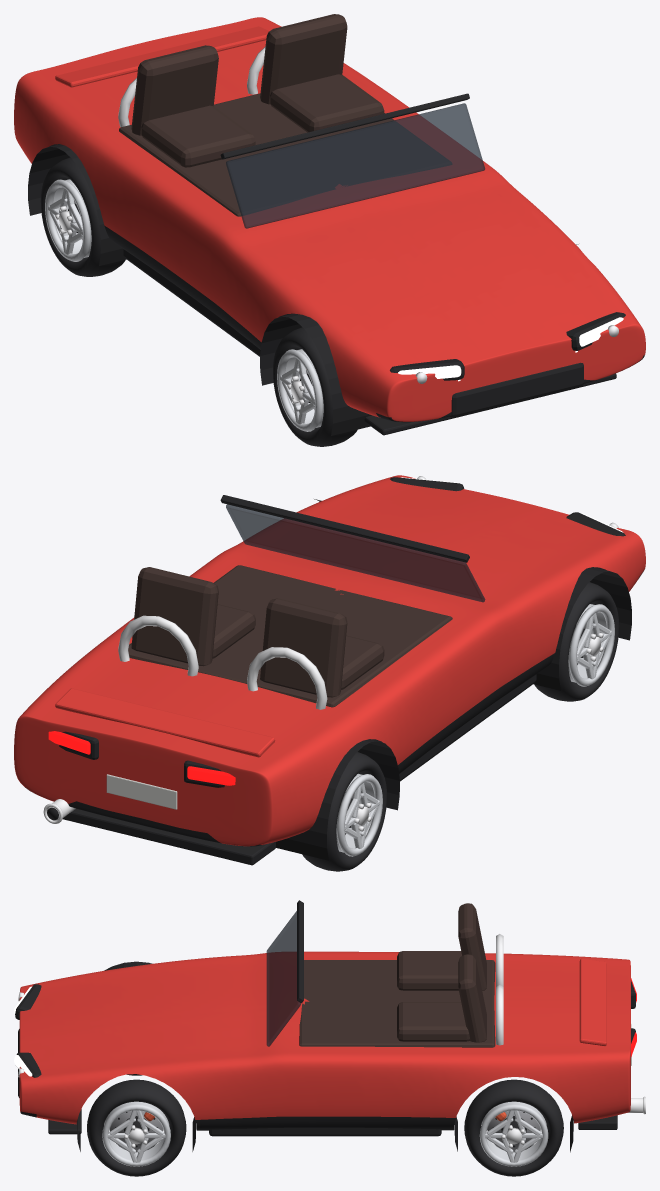
File: velora.glb
3 views of the same model, one above another, from view 1: azimuth 30°, elevation 25°; view 2: azimuth 150°, elevation 25°; view 3: azimuth 270°, elevation 25° (orthographic). The views are drawn at different scales.
Parts seen in each view (by area): view 1: body, wheel_rr, wheel_fr; view 2: body, wheel_rr, wheel_fr; view 3: body, wheel_fl, wheel_rl.
Part boxes in pixels (x1,y1,x2,y2): body: (14, 14, 645, 435); wheel_rr: (40, 157, 125, 276); wheel_fr: (273, 327, 357, 446); body: (14, 475, 645, 865); wheel_rr: (302, 752, 386, 871); wheel_fr: (534, 582, 619, 701); body: (14, 900, 645, 1152); wheel_fl: (87, 1079, 186, 1176); wheel_rl: (464, 1079, 563, 1176).
Bounding box in the file's own units: 1.88 × 1.33 × 4.19.
